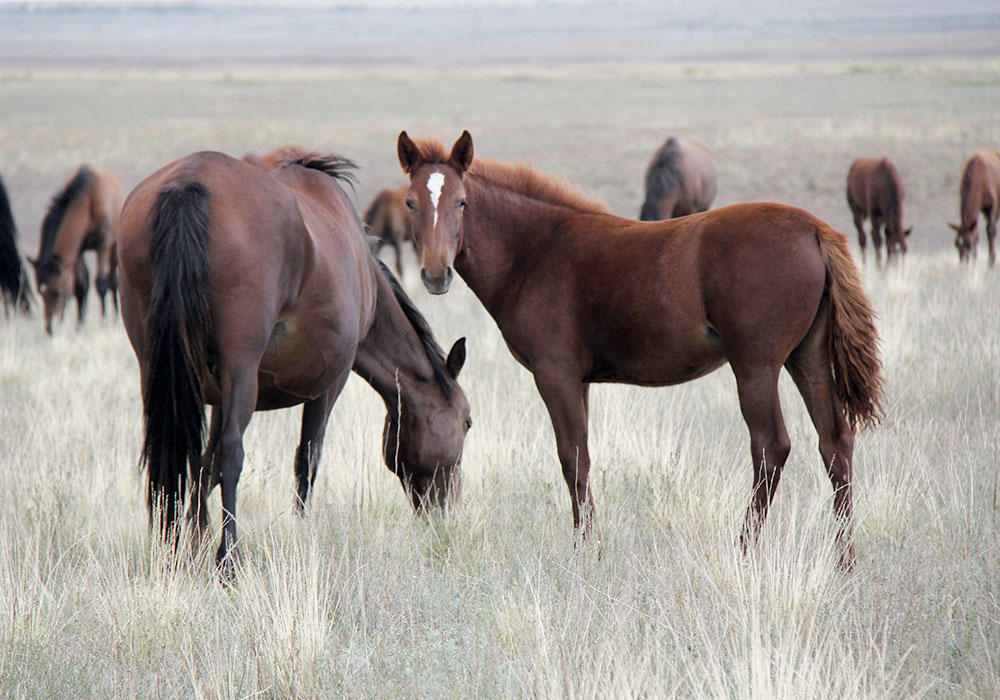horse: (394, 128, 881, 571), (101, 121, 498, 566)
